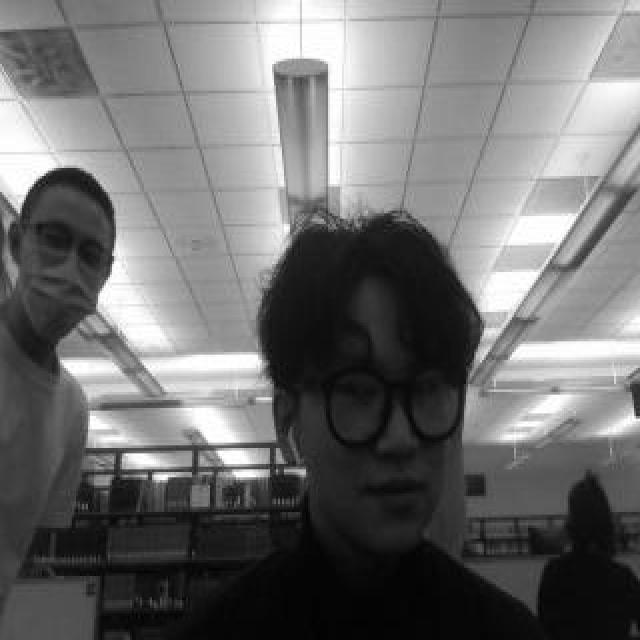Focused: (316, 318, 468, 523), (17, 193, 111, 329)
